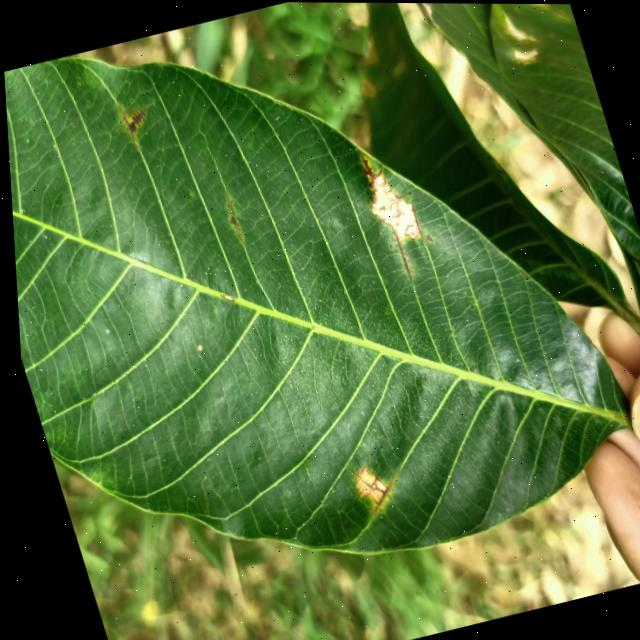Colletotrichum: (364, 480, 372, 488), (192, 343, 198, 350)
Corynespora: (350, 144, 416, 286), (340, 454, 398, 518), (114, 98, 151, 143), (218, 190, 244, 246)
Leaf-Blight: (359, 168, 418, 244)
